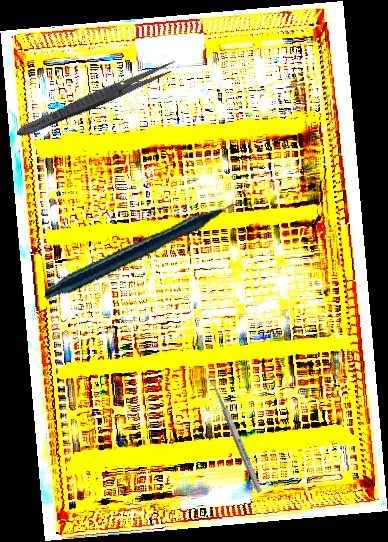Dressing Forceps: (13, 55, 180, 143)
Handpiece: (43, 166, 254, 335)
Surgical Spoon: (206, 372, 264, 494)
